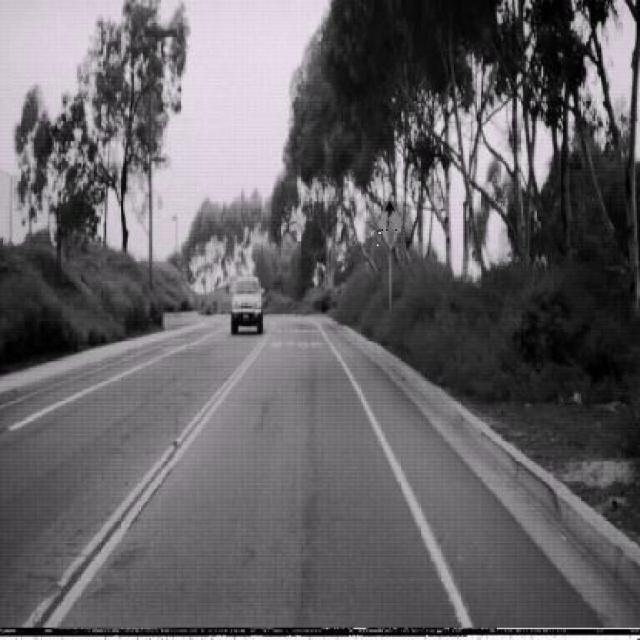stopAhead: (376, 195, 404, 251)
